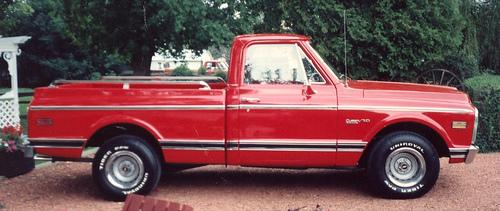truck: (25, 31, 479, 200)
